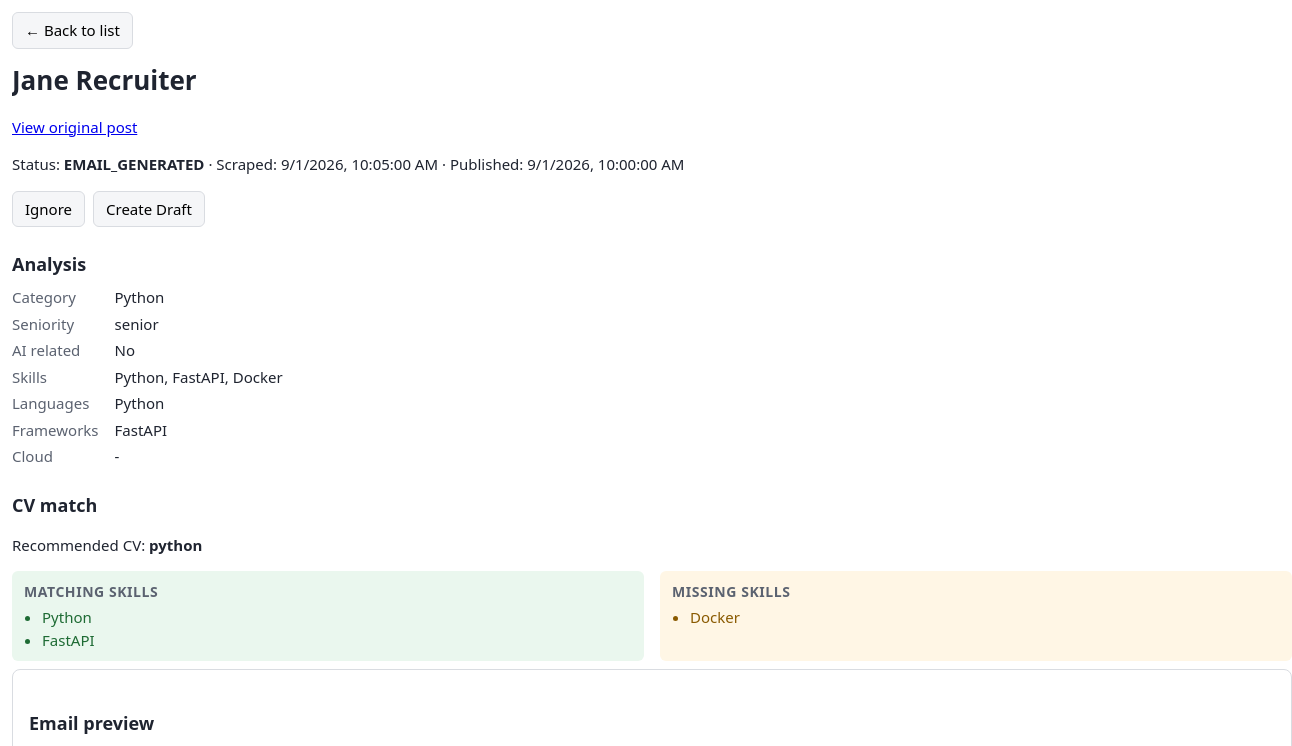
Test case: JobDetail › shows Mark as Sent once the draft is created, and marks it sent on click
The width and height of the screenshot is (1292, 746).
Check: the heading "Jane Recruiter" is shown, box [12,62,197,98]
Click the button "Create Draft": (149, 209) [93,190,205,227]
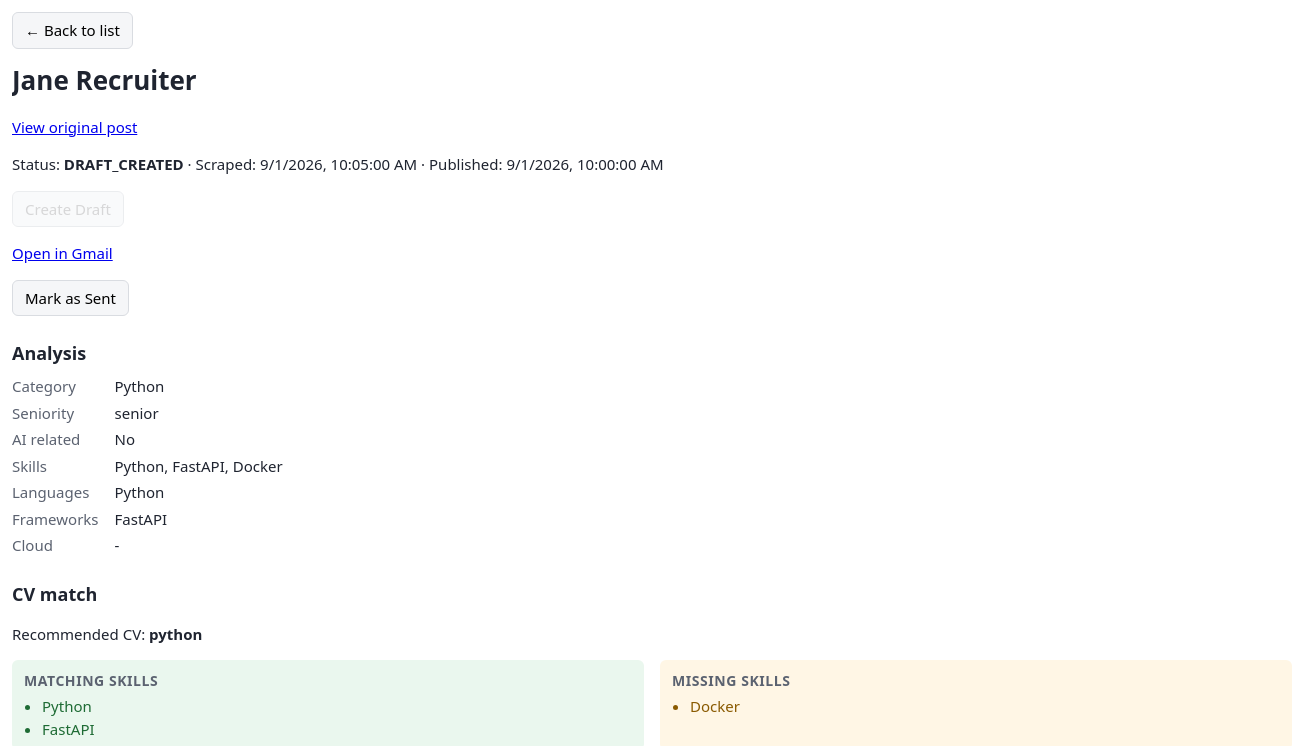
Check: the link "Open in Gmail" is shown, box [12,243,113,263]
Click the button "Mark as Sent": (70, 298) [12,280,129,316]
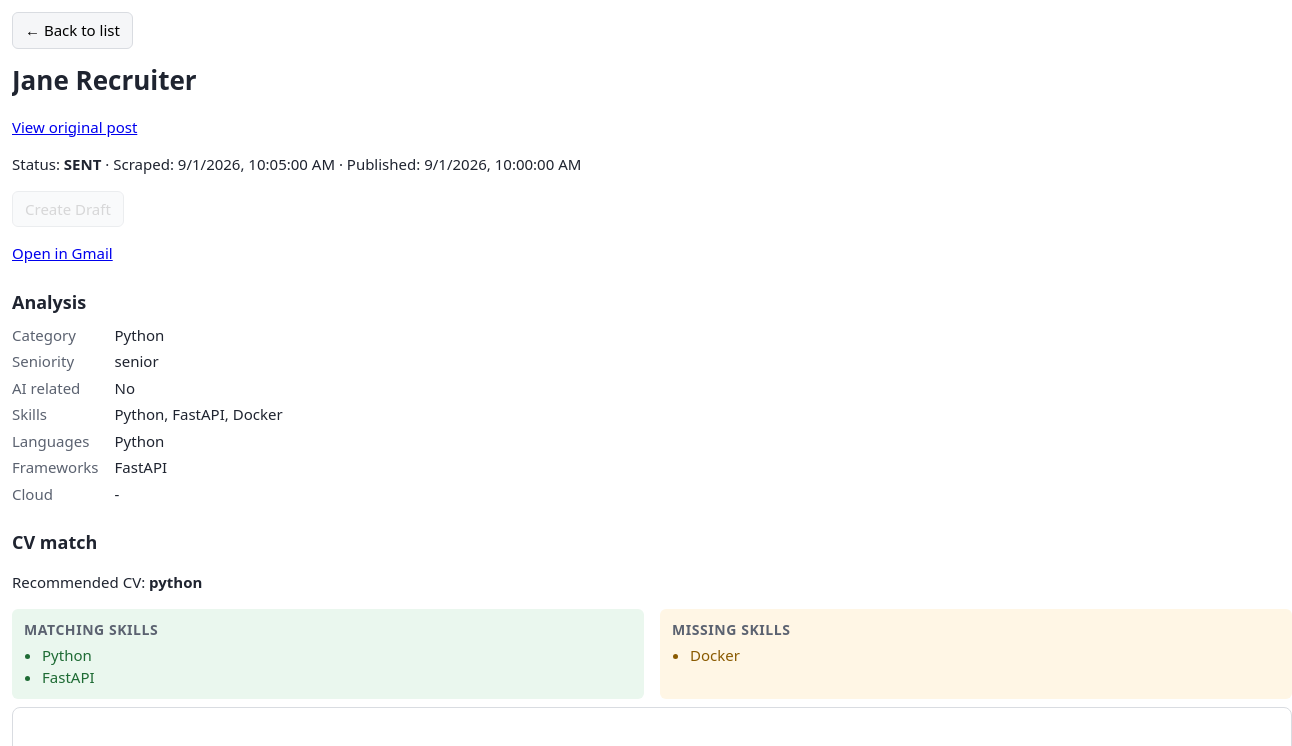
Check: the text "SENT" is shown, box [64,154,101,174]
Check: the button "Mark as Sent" is gone
